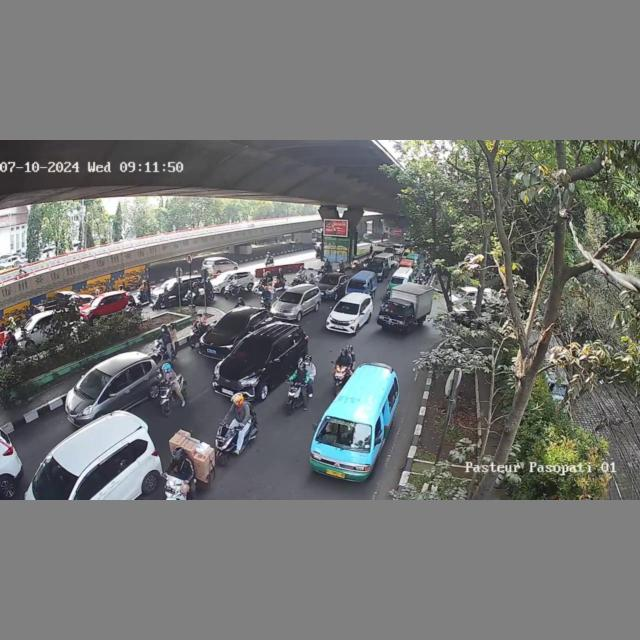windshield: (319, 413, 375, 454), (74, 365, 115, 402), (230, 339, 272, 368), (216, 314, 248, 333), (382, 301, 408, 319), (334, 299, 360, 315), (279, 292, 303, 304)
